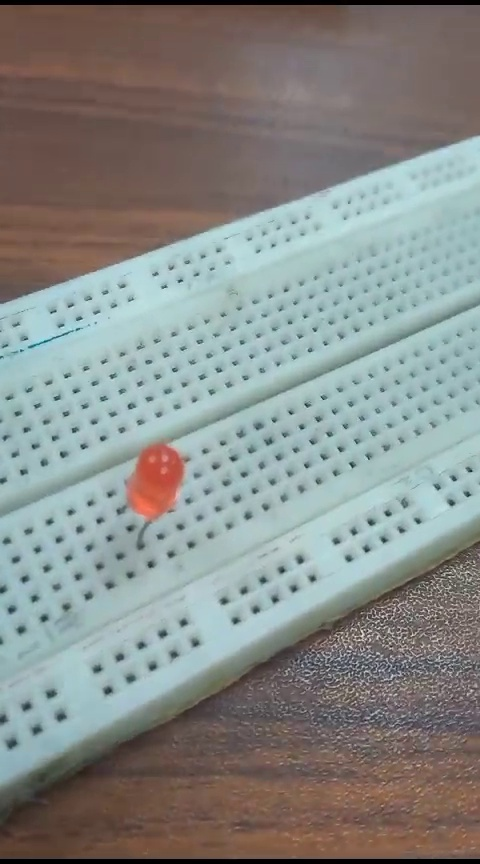LED: (119, 441, 200, 540)
